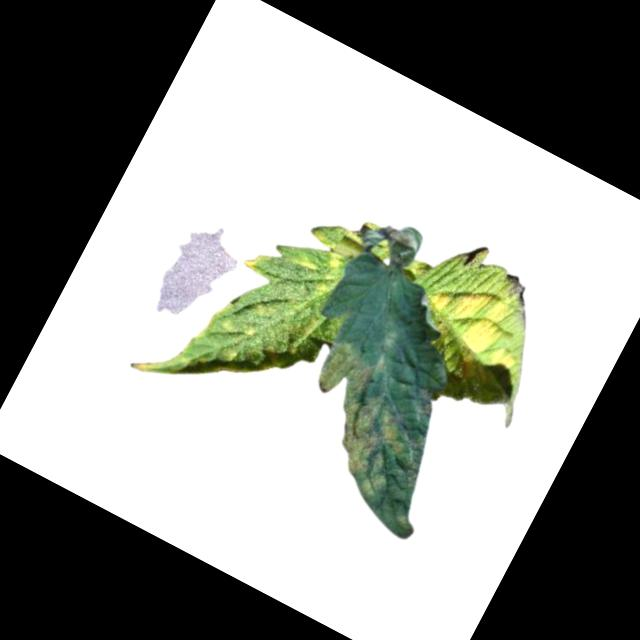Leaf_Mold: (129, 153, 377, 438), (268, 334, 479, 541), (400, 269, 548, 406)
